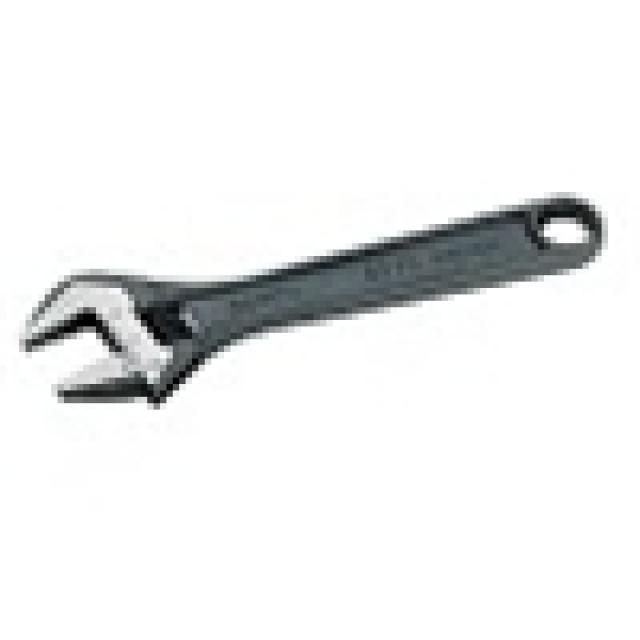wrench: (15, 186, 612, 418)
